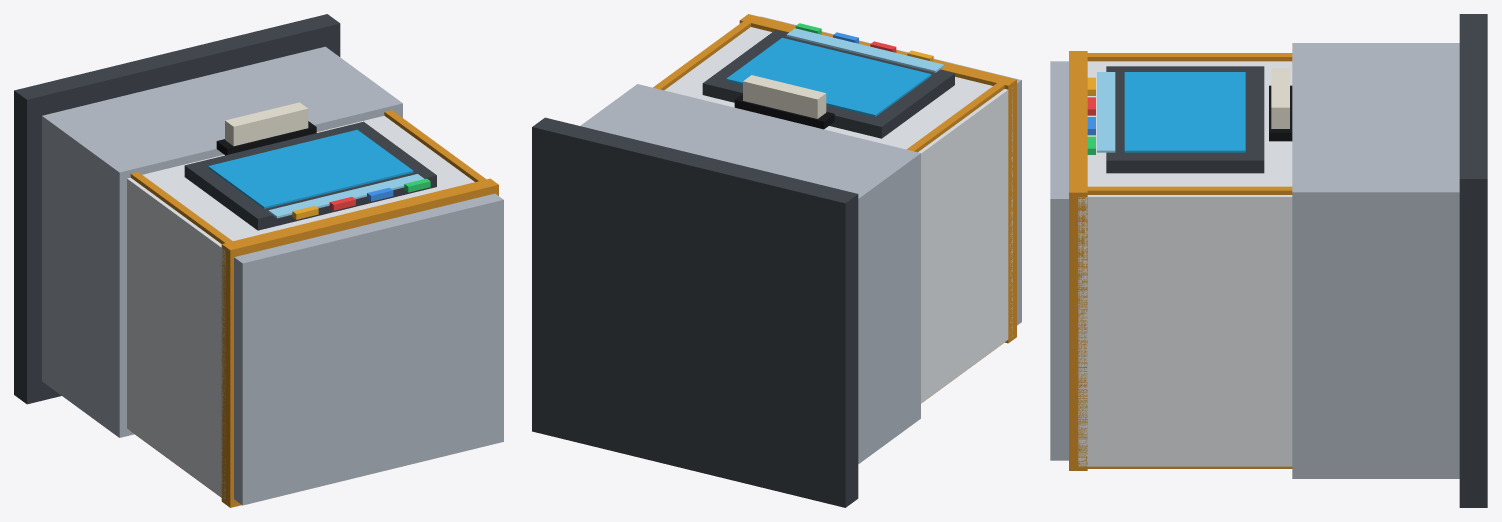
The model's file is visa_issuer.obj.
3 views of the same model, side by side, from view 1: azimuth 30°, elevation 25°; view 2: azimuth 150°, elevation 25°; view 3: azimuth 270°, elevation 25° (orthographic). The views are drawn at different scales.
Parts seen in each view (by area): view 1: DEV_15_visa_issuer_body2, DEV_01_visa_issuer_body2, DEV_02_visa_issuer_body, DEV_00_visa_issuer_trim, DEV_04_visa_issuer_screen, DEV_08_visa_issuer_accent, DEV_03_visa_issuer_trim, DEV_06_visa_issuer_paper, DEV_07_visa_issuer_screen2, DEV_10_visa_issuer_accent, DEV_09_visa_issuer_accent, DEV_05_visa_issuer_slot; view 2: DEV_00_visa_issuer_trim, DEV_01_visa_issuer_body2, DEV_02_visa_issuer_body, DEV_04_visa_issuer_screen, DEV_03_visa_issuer_trim, DEV_08_visa_issuer_accent, DEV_06_visa_issuer_paper, DEV_07_visa_issuer_screen2, DEV_15_visa_issuer_body2, DEV_10_visa_issuer_accent, DEV_09_visa_issuer_accent, DEV_05_visa_issuer_slot; view 3: DEV_01_visa_issuer_body2, DEV_02_visa_issuer_body, DEV_00_visa_issuer_trim, DEV_04_visa_issuer_screen, DEV_15_visa_issuer_body2, DEV_08_visa_issuer_accent, DEV_03_visa_issuer_trim, DEV_09_visa_issuer_accent, DEV_10_visa_issuer_accent, DEV_07_visa_issuer_screen2, DEV_06_visa_issuer_paper, DEV_05_visa_issuer_slot.
Part boxes in pixels (x1=…): DEV_15_visa_issuer_body2: x1=234, y1=193, x2=503, y2=505; DEV_01_visa_issuer_body2: x1=42, y1=46, x2=402, y2=437; DEV_02_visa_issuer_body: x1=127, y1=115, x2=474, y2=499; DEV_00_visa_issuer_trim: x1=14, y1=14, x2=340, y2=404; DEV_04_visa_issuer_screen: x1=208, y1=129, x2=413, y2=208; DEV_08_visa_issuer_accent: x1=221, y1=178, x2=498, y2=507; DEV_03_visa_issuer_trim: x1=184, y1=121, x2=436, y2=230; DEV_06_visa_issuer_paper: x1=225, y1=102, x2=308, y2=146; DEV_07_visa_issuer_screen2: x1=268, y1=174, x2=424, y2=218; DEV_10_visa_issuer_accent: x1=130, y1=172, x2=232, y2=497; DEV_09_visa_issuer_accent: x1=384, y1=110, x2=486, y2=181; DEV_05_visa_issuer_slot: x1=216, y1=121, x2=316, y2=155; DEV_00_visa_issuer_trim: x1=532, y1=117, x2=858, y2=507; DEV_01_visa_issuer_body2: x1=580, y1=84, x2=920, y2=463; DEV_02_visa_issuer_body: x1=664, y1=27, x2=1012, y2=403; DEV_04_visa_issuer_screen: x1=726, y1=37, x2=931, y2=116; DEV_03_visa_issuer_trim: x1=702, y1=30, x2=954, y2=138; DEV_08_visa_issuer_accent: x1=739, y1=14, x2=1016, y2=343; DEV_06_visa_issuer_paper: x1=743, y1=75, x2=826, y2=118; DEV_07_visa_issuer_screen2: x1=786, y1=28, x2=944, y2=72; DEV_15_visa_issuer_body2: x1=760, y1=16, x2=1021, y2=325; DEV_10_visa_issuer_accent: x1=906, y1=83, x2=1004, y2=403; DEV_09_visa_issuer_accent: x1=653, y1=21, x2=750, y2=90; DEV_05_visa_issuer_slot: x1=734, y1=94, x2=834, y2=129; DEV_01_visa_issuer_body2: x1=1292, y1=43, x2=1459, y2=478; DEV_02_visa_issuer_body: x1=1078, y1=61, x2=1292, y2=466; DEV_00_visa_issuer_trim: x1=1459, y1=14, x2=1487, y2=507; DEV_04_visa_issuer_screen: x1=1124, y1=72, x2=1245, y2=152; DEV_15_visa_issuer_body2: x1=1050, y1=61, x2=1068, y2=460; DEV_08_visa_issuer_accent: x1=1069, y1=51, x2=1087, y2=470; DEV_03_visa_issuer_trim: x1=1106, y1=66, x2=1264, y2=173; DEV_09_visa_issuer_accent: x1=1087, y1=186, x2=1292, y2=468; DEV_10_visa_issuer_accent: x1=1087, y1=53, x2=1292, y2=61; DEV_07_visa_issuer_screen2: x1=1097, y1=72, x2=1115, y2=152; DEV_06_visa_issuer_paper: x1=1271, y1=68, x2=1289, y2=128; DEV_05_visa_issuer_slot: x1=1269, y1=85, x2=1292, y2=141.
Size of the model in its own units: 0.84 by 0.8 by 0.94.
